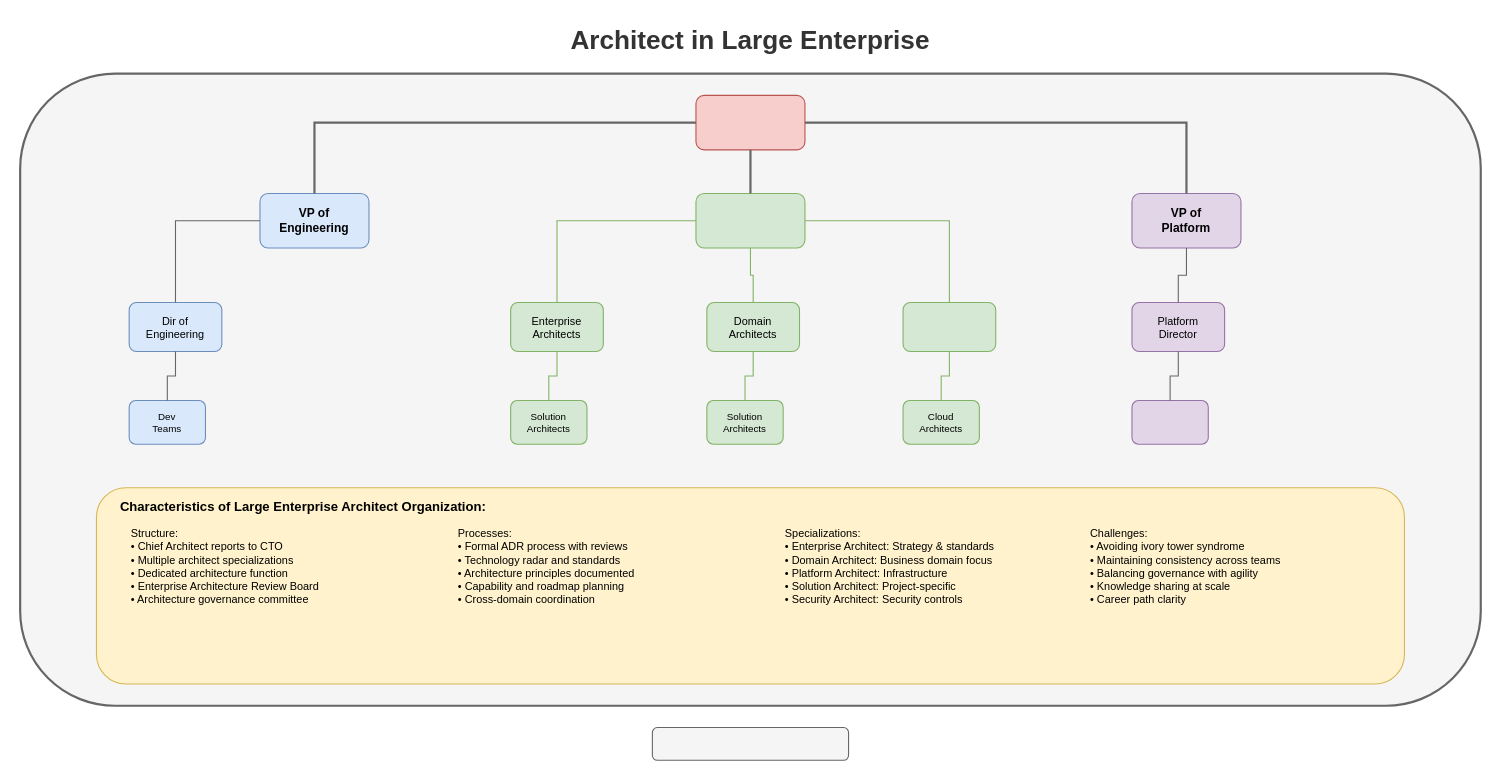
Image size: 1500x779. Some labels were removed from this diagram. The box of each missing label's shape, as (x1, y1, x2, y2) in pixels:
Chief Architect: (695, 192, 805, 248)
CTO: (695, 94, 805, 150)
Platform Architect: (902, 301, 996, 352)
Platform Teams: (1131, 399, 1208, 444)
Typical Org: 500+ people: (651, 726, 849, 760)
